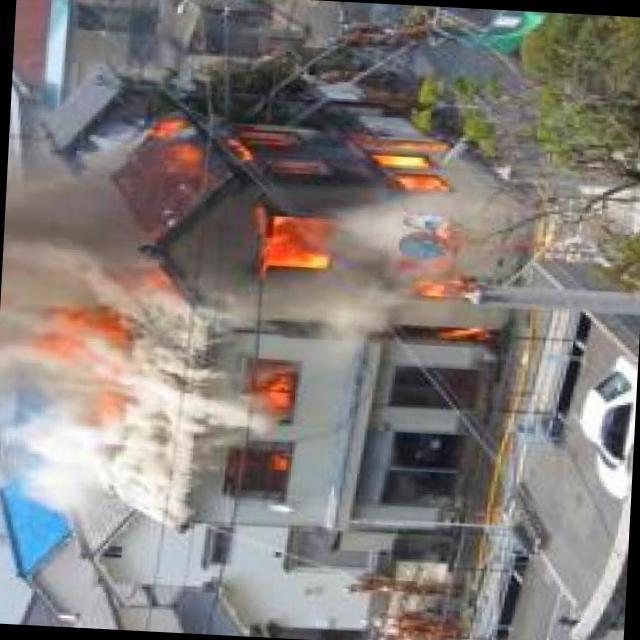Fire: (126, 106, 495, 303), (46, 304, 134, 428), (253, 362, 297, 483)
